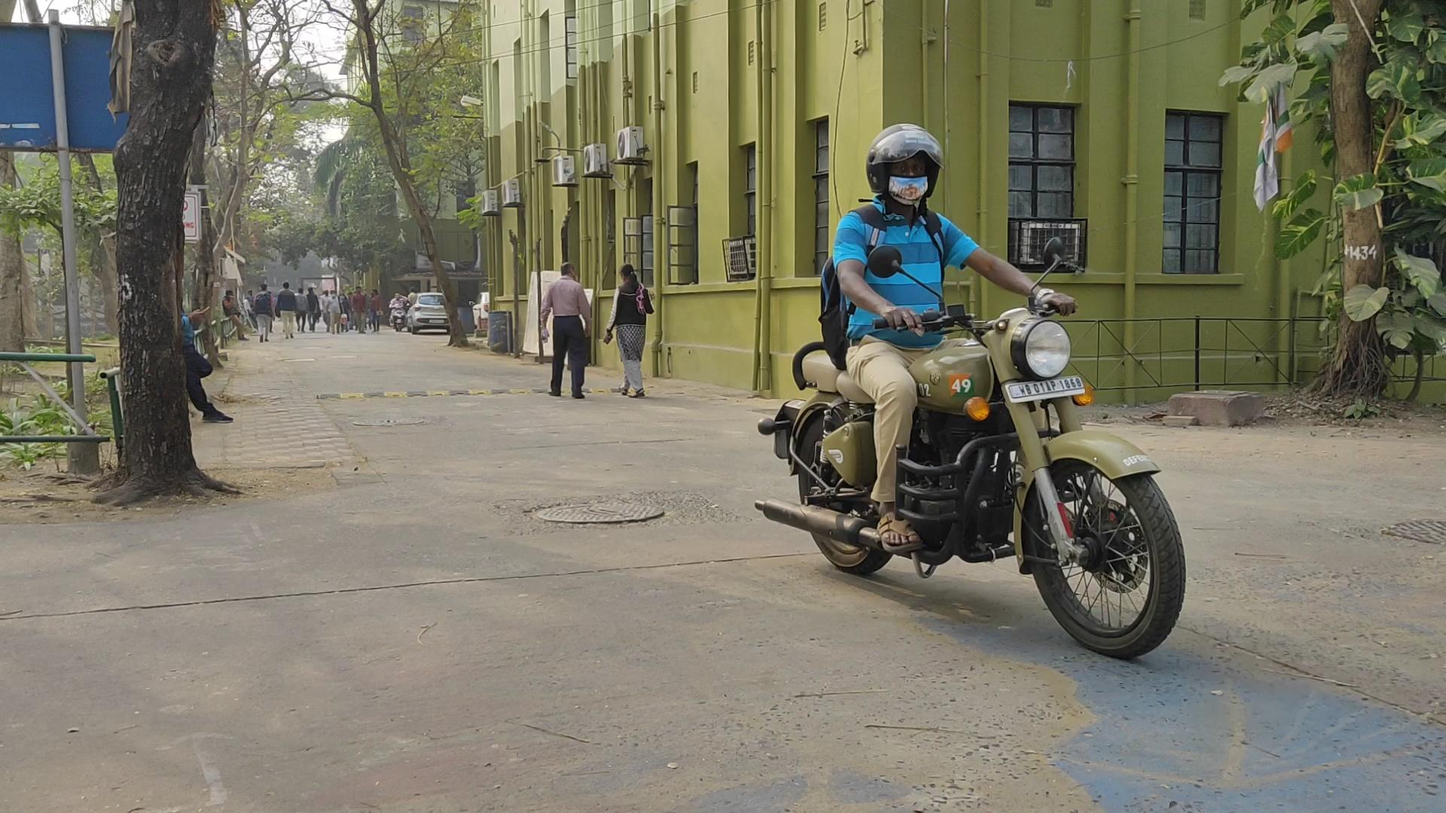bike: (752, 120, 1187, 662), (386, 293, 408, 333)
car: (404, 292, 450, 335)
